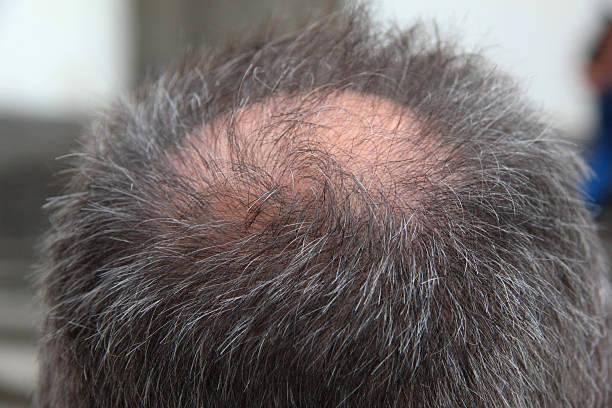dry hair: (346, 31, 489, 115), (69, 260, 192, 318), (61, 139, 128, 237)
low hair density: (155, 114, 445, 204)
